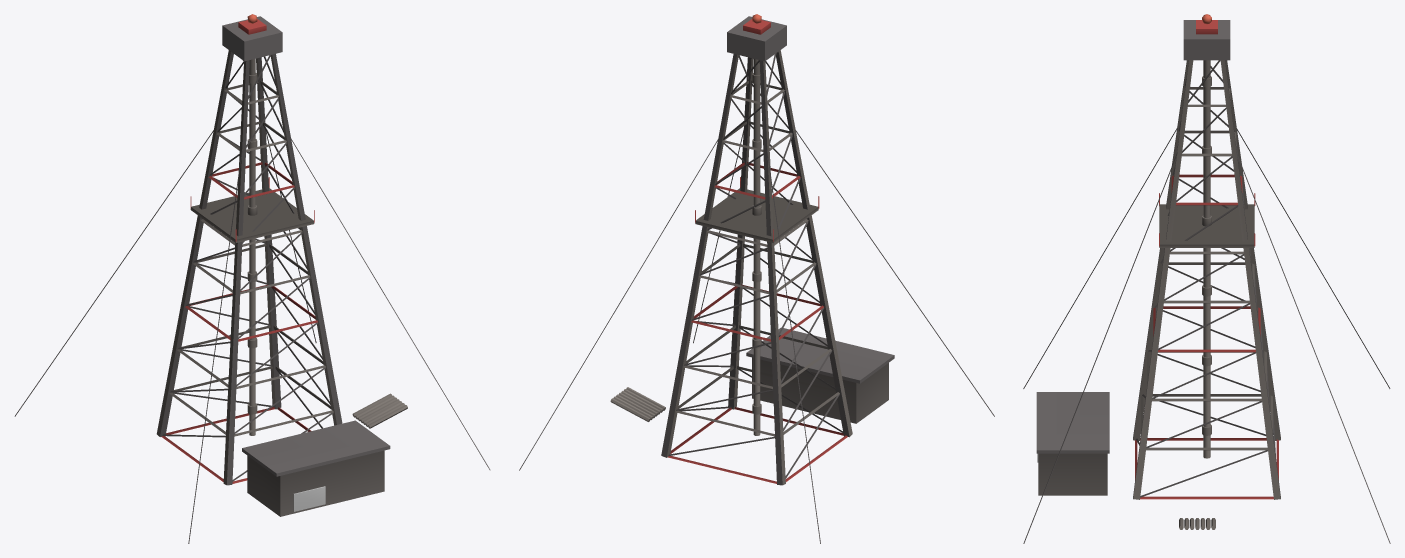
Rendered from augur_derrick.glb.
3 renders of one model, left to right at view 1: azimuth 30°, elevation 25°; view 2: azimuth 150°, elevation 25°; view 3: azimuth 270°, elevation 25°, orthographic. The views are drawn at different scales.
Parts seen in each view (by area): view 1: augur_derrick; view 2: augur_derrick; view 3: augur_derrick.
Part boxes in pixels (x1,y1,x2,y2): augur_derrick: (14, 14, 490, 543); augur_derrick: (519, 14, 994, 543); augur_derrick: (1023, 14, 1390, 543).
Size of the model in its own units: 28.67 by 39.26 by 28.67.
